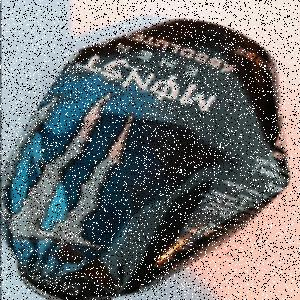Can: (2, 18, 292, 300)
